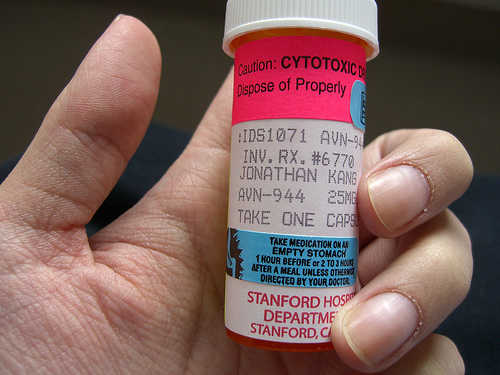pill bottle: (219, 1, 383, 357)
